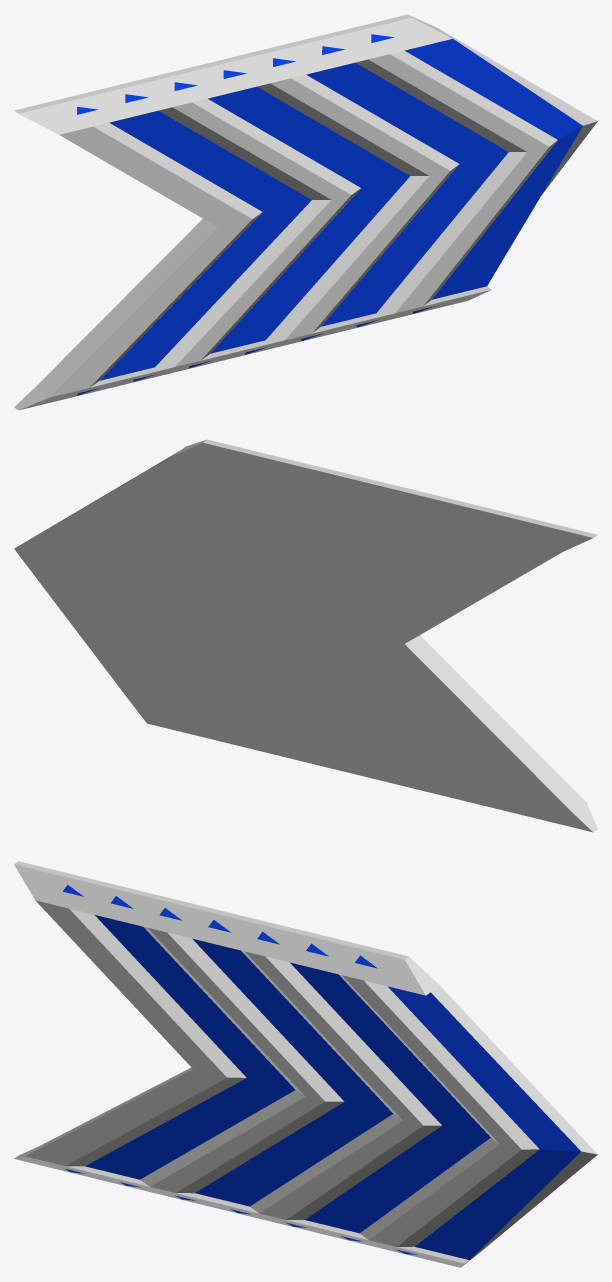
File: SM_Arrow.fbx
3 views of the same model, one above another, from view 1: azimuth 30°, elevation 25°; view 2: azimuth 150°, elevation 25°; view 3: azimuth 330°, elevation 25° (orthographic).
Parts seen in each view (by area): view 1: Arrow; view 2: Arrow; view 3: Arrow.
Part boxes in pixels (x1=…): Arrow: x1=14, y1=14, x2=597, y2=410; Arrow: x1=14, y1=439, x2=597, y2=832; Arrow: x1=14, y1=861, x2=597, y2=1267.
Bounding box in the file's own units: 256 × 125 × 10.7.
